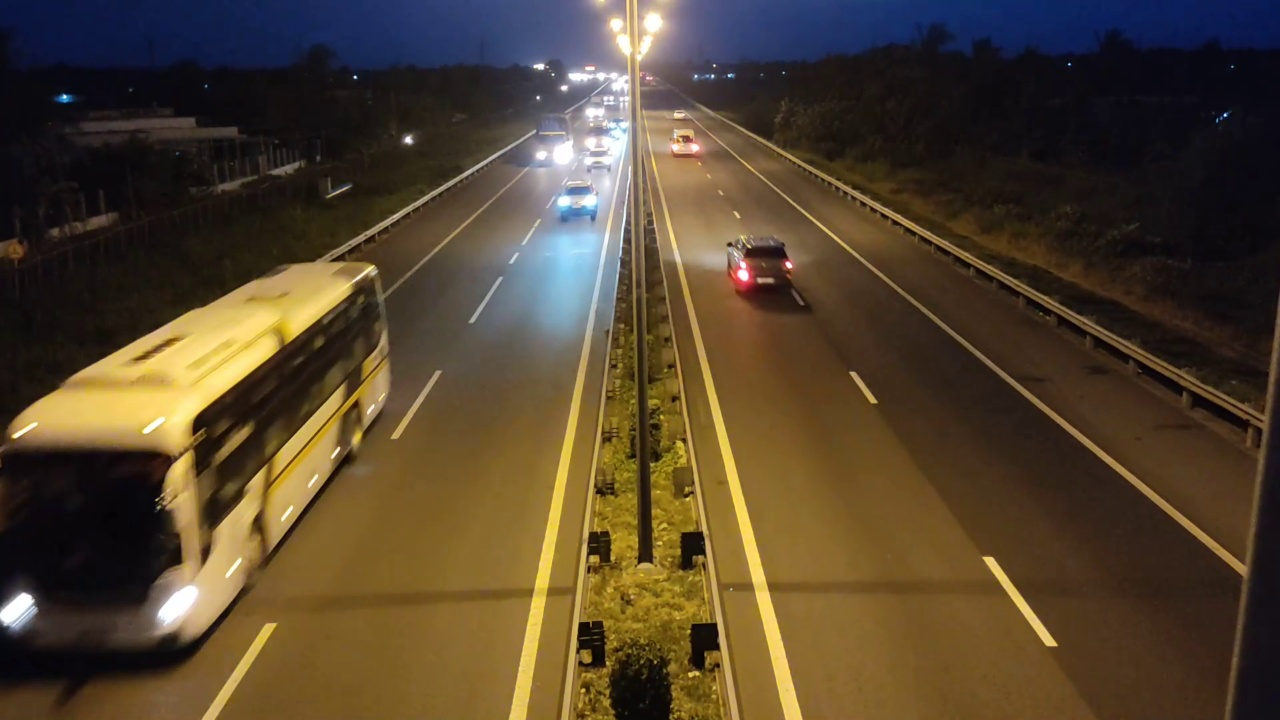bus: (1, 260, 393, 667)
car: (725, 234, 795, 291), (556, 181, 599, 222), (669, 130, 702, 157)
